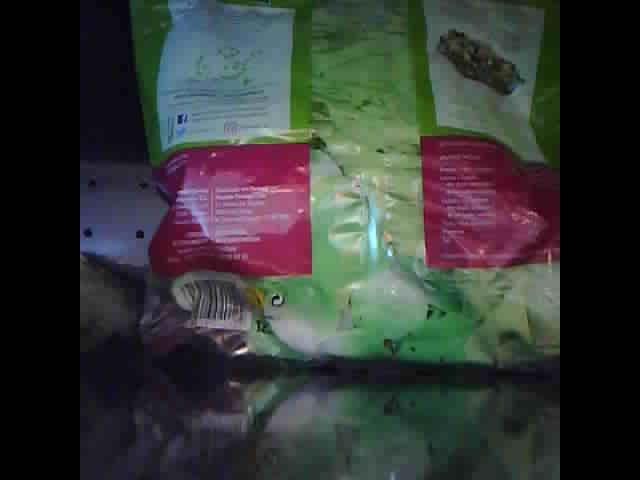florette: (130, 2, 557, 374)
